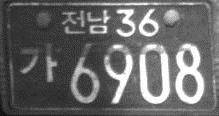0: (138, 42, 170, 104)
3: (114, 7, 136, 38)
6: (69, 41, 100, 104), (138, 7, 159, 37)
8: (173, 42, 205, 104)
9: (103, 42, 134, 104)
가: (18, 41, 57, 84)
전남_O: (60, 9, 110, 35)
